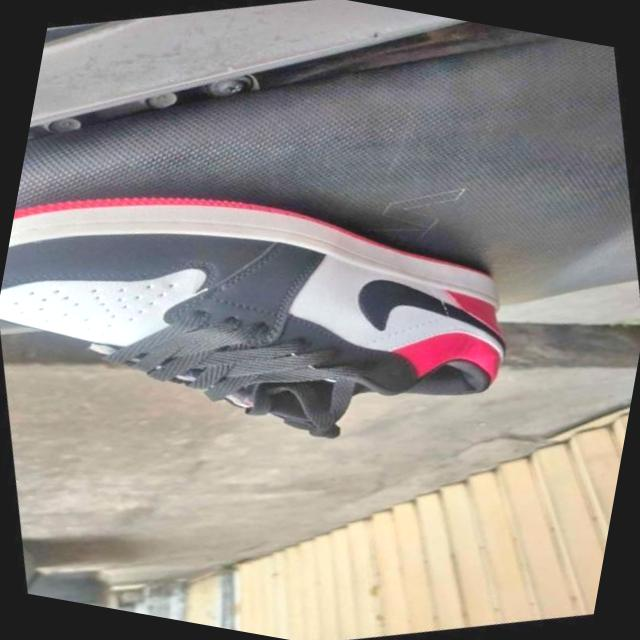nike_fake_jordan: (0, 72, 561, 555)
